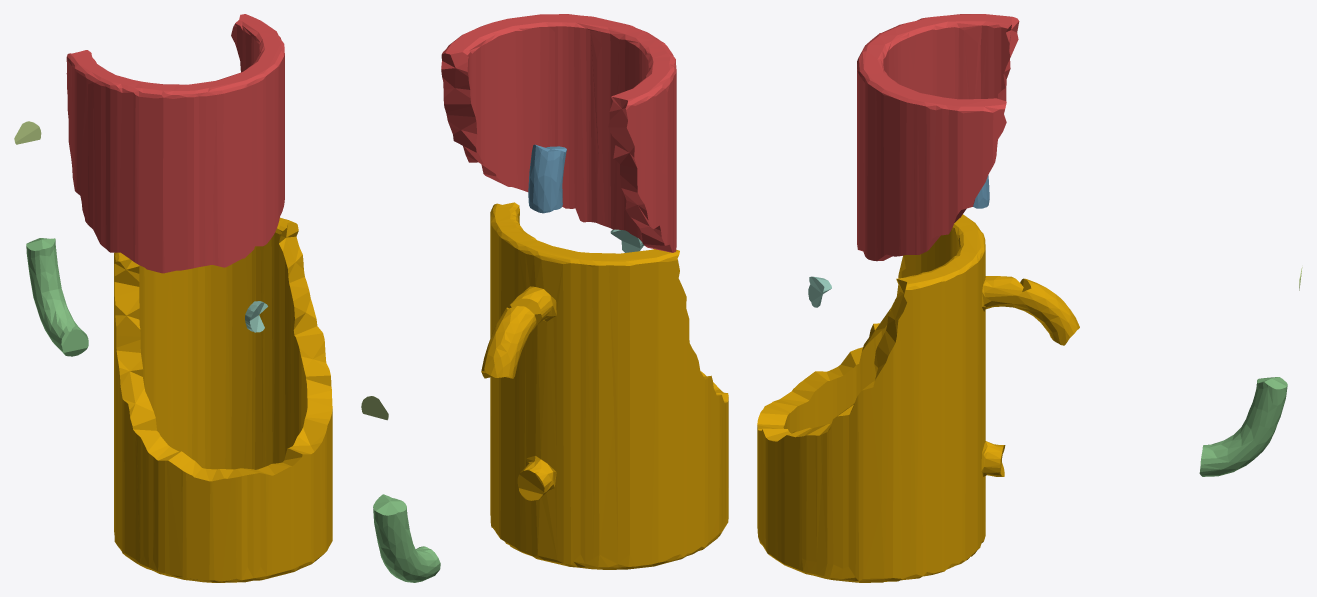
The model's file is fractured_18_6pcs_transformed.glb.
3 views of the same model, side by side, from view 1: azimuth 30°, elevation 25°; view 2: azimuth 150°, elevation 25°; view 3: azimuth 270°, elevation 25° (orthographic). The views are drawn at different scales.
Parts seen in each view (by area): view 1: piece_0.obj, piece_1.obj, piece_3.obj, piece_4.obj, piece_5.obj; view 2: piece_0.obj, piece_1.obj, piece_3.obj, piece_2.obj; view 3: piece_0.obj, piece_1.obj, piece_3.obj.
Part boxes in pixels (left/top/right/bottom): piece_0.obj: left=114, top=217, right=332, bottom=582; piece_1.obj: left=66, top=14, right=284, bottom=273; piece_3.obj: left=26, top=238, right=88, bottom=356; piece_4.obj: left=245, top=301, right=267, bottom=332; piece_5.obj: left=14, top=121, right=41, bottom=144; piece_0.obj: left=481, top=202, right=728, bottom=569; piece_1.obj: left=441, top=14, right=676, bottom=252; piece_3.obj: left=373, top=494, right=440, bottom=582; piece_2.obj: left=528, top=144, right=566, bottom=213; piece_0.obj: left=757, top=214, right=1079, bottom=582; piece_1.obj: left=857, top=14, right=1019, bottom=261; piece_3.obj: left=1199, top=377, right=1287, bottom=476.
Bounding box in the file's own units: 0.6884 × 1.58 × 1.64.
